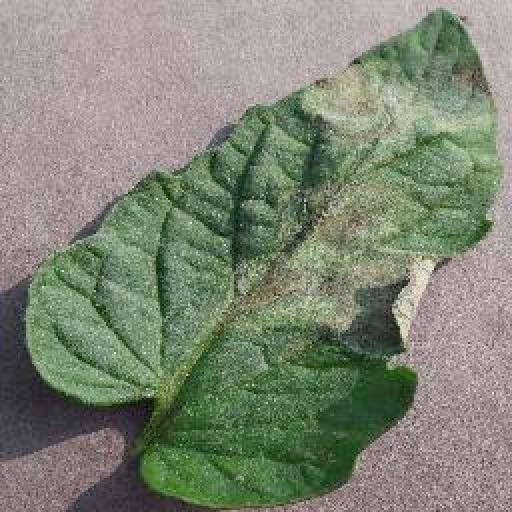disease_tomato: (22, 8, 502, 512)
